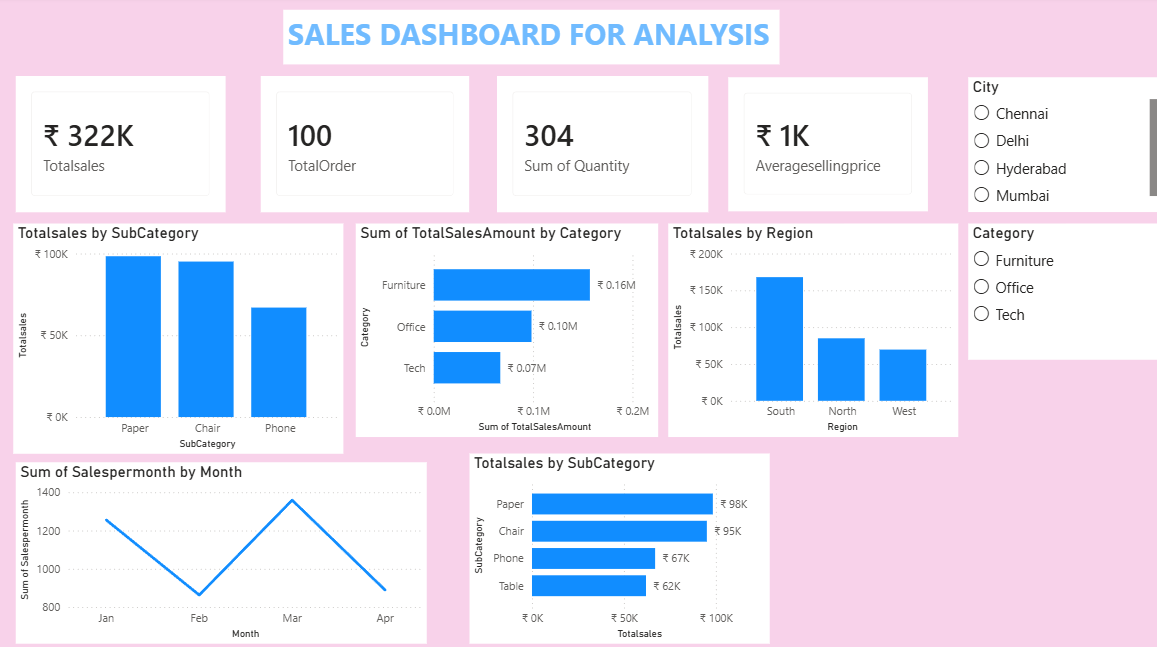

The page's visual inventory and layout, read from the dashboard file:
{"tool":"powerbi","page":{"name":"Page 2","canvas":[1280,720],"ordinal":0},"visuals":[{"type":"cardVisual","fields":{"Data":["Messy_Sales_Data.Totalsales"]},"box":[17.5,87.5,180,132.5],"z":0},{"type":"textbox","box":[313.8,15,545,60],"z":1000},{"type":"clusteredBarChart","fields":{"Y":["Sum(Messy_Sales_Data.TotalSalesAmount)"],"Category":["Messy_Sales_Data.Category"]},"box":[366.2,250,337.5,221.2],"z":2000},{"type":"listSlicer","fields":{"Values":["Messy_Sales_Data.City"]},"box":[798.8,81.2,278.8,151.2],"z":3000},{"type":"clusteredBarChart","fields":{"Category":["Messy_Sales_Data.SubCategory"],"Y":["Messy_Sales_Data.Totalsales"]},"box":[717.5,251.2,335,221.2],"z":4000},{"type":"clusteredColumnChart","fields":{"Y":["Messy_Sales_Data.Totalsales"],"Category":["Messy_Sales_Data.SubCategory"]},"box":[17.5,250,337.5,220],"z":5000},{"type":"cardVisual","fields":{"Data":["Messy_Sales_Data.TotalOrder"]},"box":[208.8,87.5,172.5,132.5],"z":6000},{"type":"cardVisual","fields":{"Data":["Sum(Messy_Sales_Data.Quantity)"]},"box":[403.8,87.5,171.2,132.5],"z":7000},{"type":"cardVisual","fields":{"Data":["Messy_Sales_Data.Averagesellingprice"]},"box":[592.5,87.5,187.5,132.5],"z":8000},{"type":"lineChart","fields":{"Y":["Sum(Unpivot_Practice.Salespermonth)"],"Category":["Unpivot_Practice.Month"]},"box":[20,502.5,396.2,198.8],"z":8001}]}

Visuals, with their boxes in screenshot pixels (x1, y1, x2, y2), scaled from the page's 1280x720 canvas onto the 1157x647 screenshot:
cardVisual - Messy_Sales_Data.Totalsales: left=16, top=79, right=179, bottom=198
textbox: left=284, top=13, right=776, bottom=67
clusteredBarChart - Sum(Messy_Sales_Data.TotalSalesAmount) x Messy_Sales_Data.Category: left=331, top=225, right=636, bottom=423
listSlicer - Messy_Sales_Data.City: left=722, top=73, right=974, bottom=209
clusteredBarChart - Messy_Sales_Data.SubCategory x Messy_Sales_Data.Totalsales: left=649, top=226, right=951, bottom=425
clusteredColumnChart - Messy_Sales_Data.Totalsales x Messy_Sales_Data.SubCategory: left=16, top=225, right=321, bottom=422
cardVisual - Messy_Sales_Data.TotalOrder: left=189, top=79, right=345, bottom=198
cardVisual - Sum(Messy_Sales_Data.Quantity): left=365, top=79, right=520, bottom=198
cardVisual - Messy_Sales_Data.Averagesellingprice: left=536, top=79, right=705, bottom=198
lineChart - Sum(Unpivot_Practice.Salespermonth) x Unpivot_Practice.Month: left=18, top=452, right=376, bottom=630
